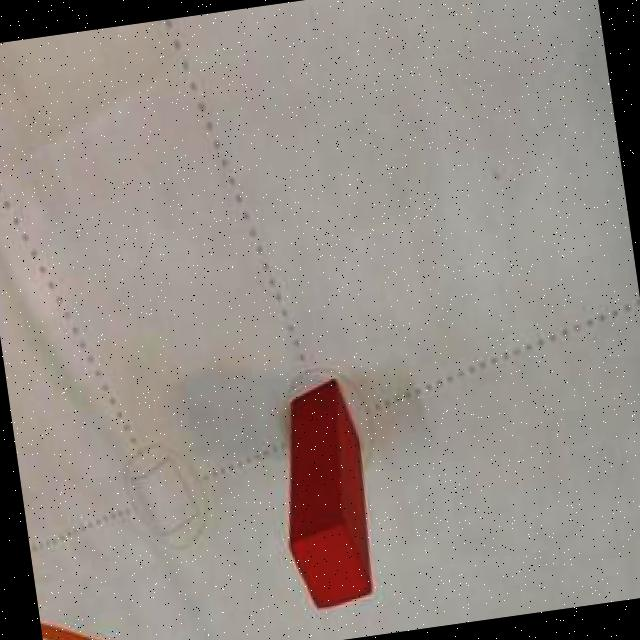redbox: (267, 376, 380, 615)
